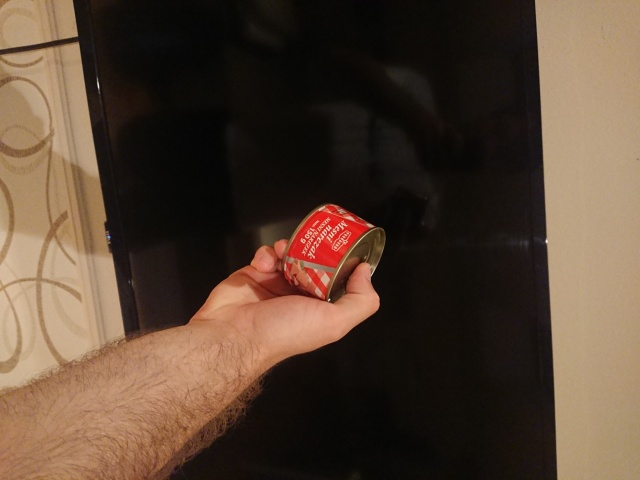Podravka Luncheon Meat 150g: (278, 199, 388, 306)
